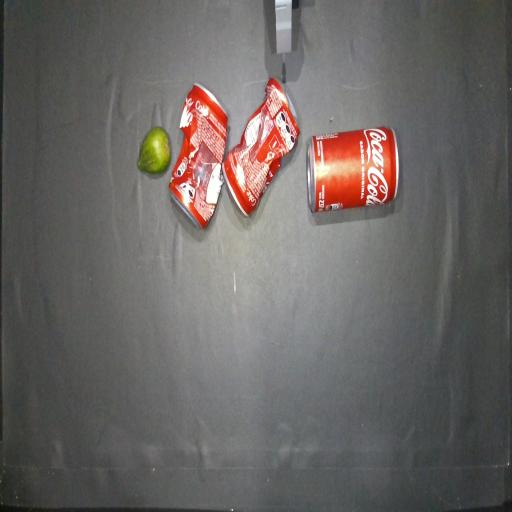higo: (138, 128, 171, 174)
lata: (306, 127, 399, 212)
lata_defectuoso: (222, 78, 299, 216), (169, 83, 227, 229)
